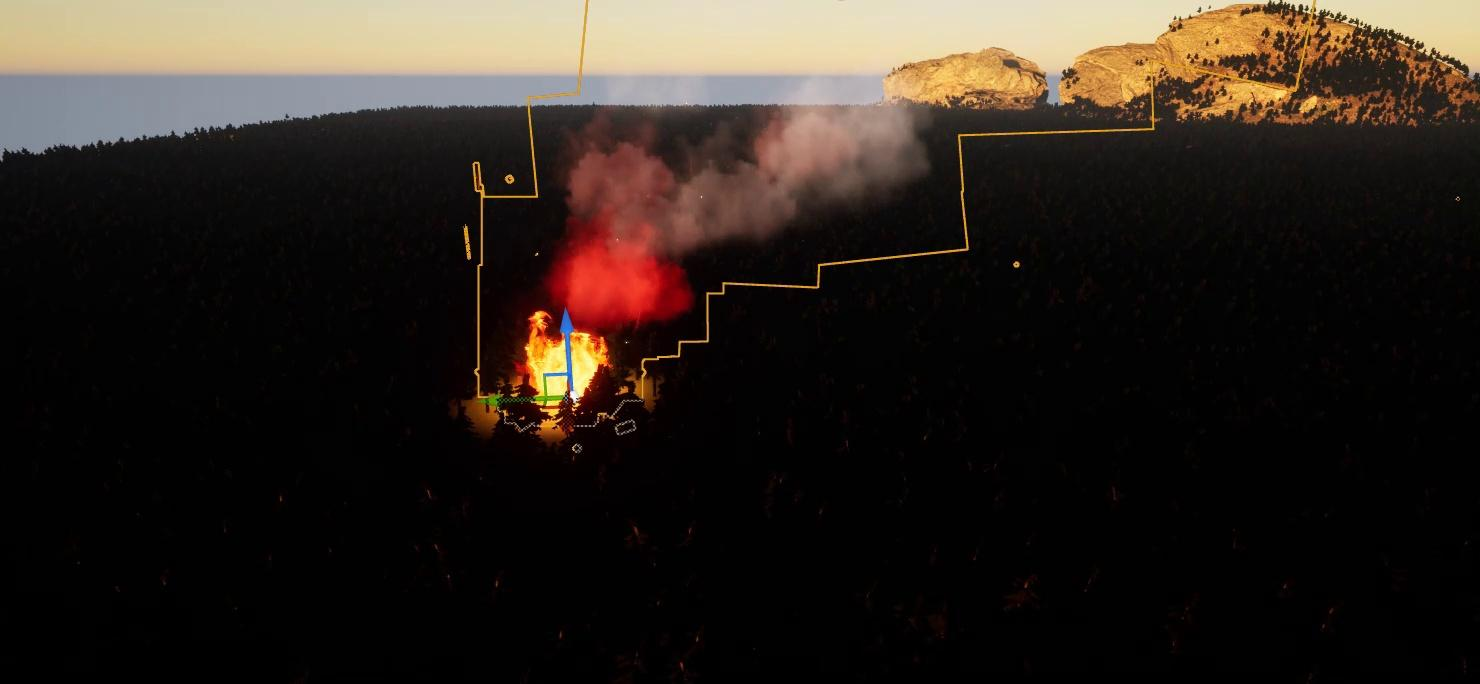fire: (518, 310, 603, 411)
smoke: (550, 72, 921, 325)
